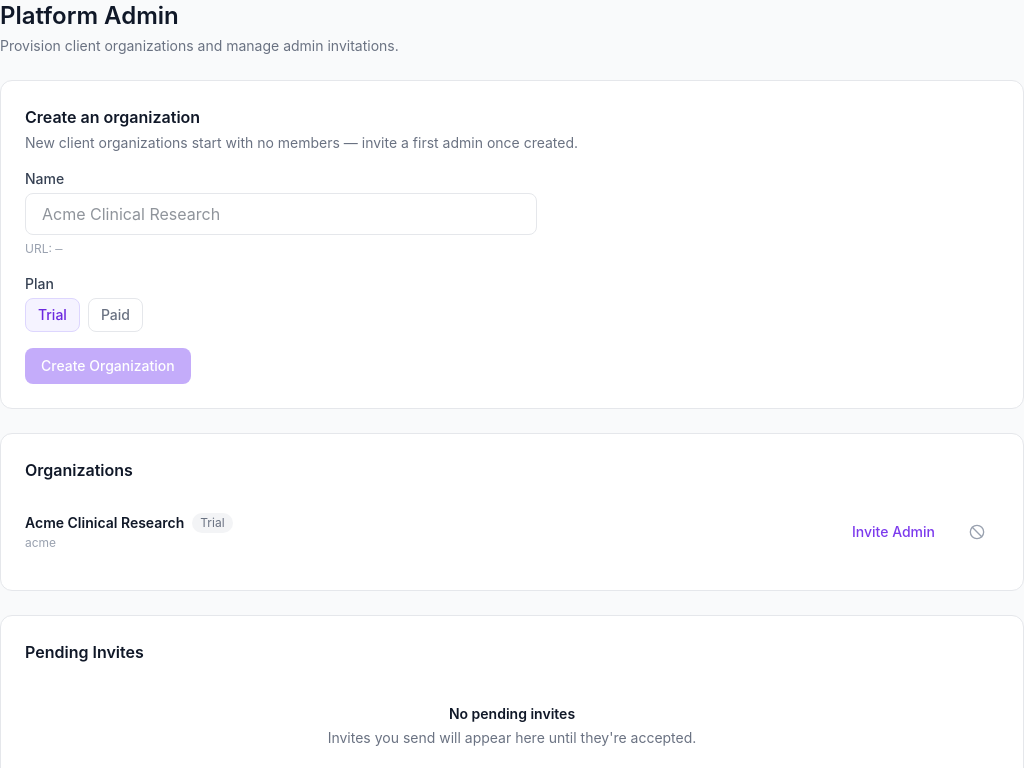
AdminPanel — delete organization › shows the blocked reason and offers no way to proceed, even with correct name typed
Click the button named "delete": x=977, y=532 955,510 -> 999,554
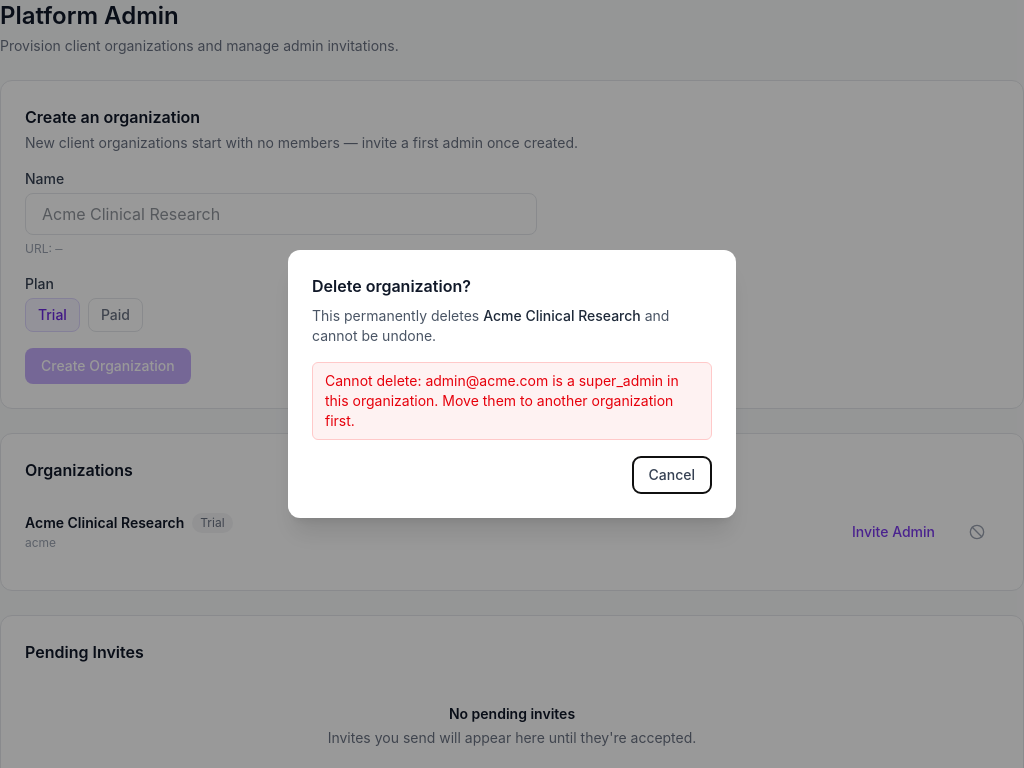
Check: the text "is a super_admin in this organization" is shown, box 325,372 -> 679,429
Check: the button "Cancel" is enabled, box 632,456 -> 712,494
